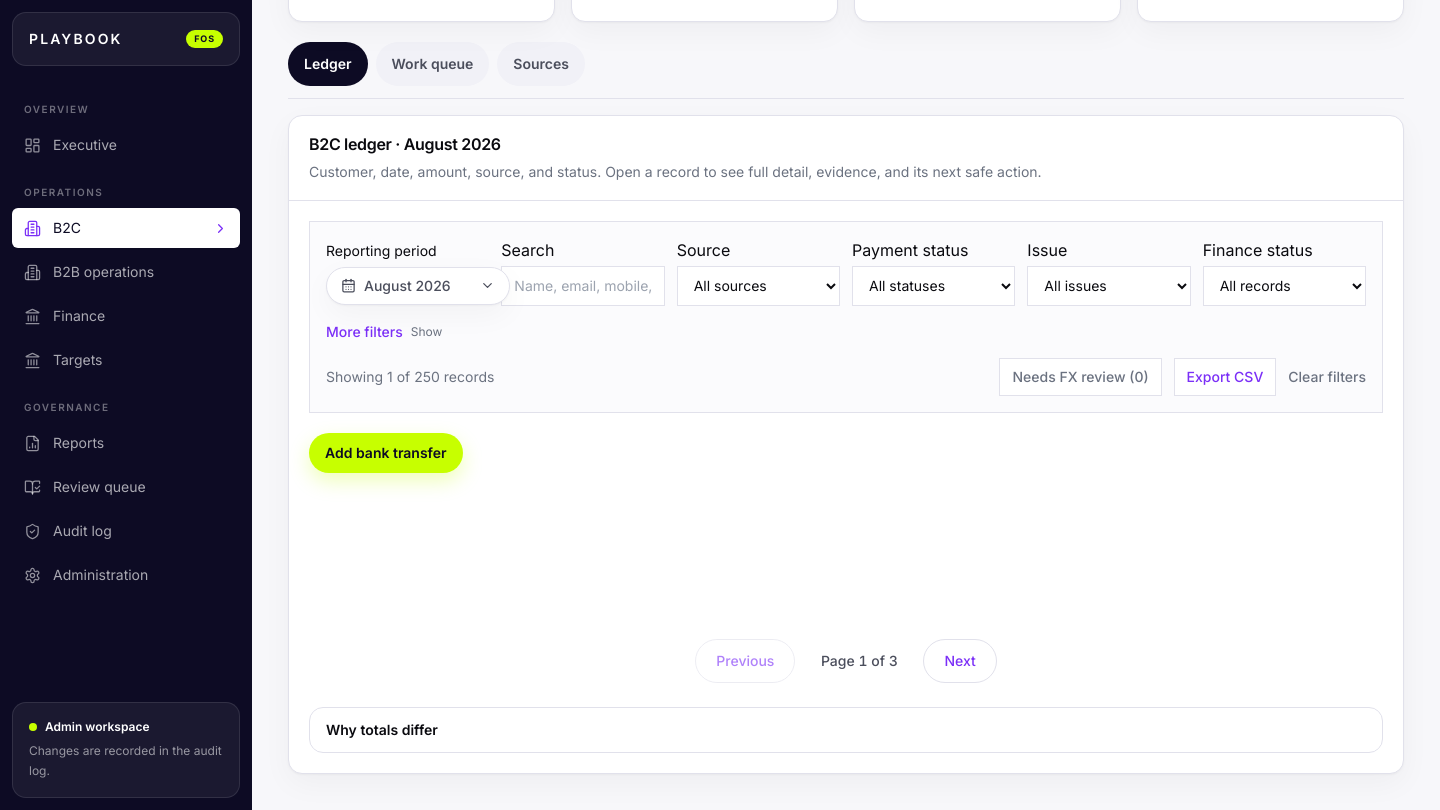
Ledger › replaces rows across label-only Previous and Next keyset pages
The width and height of the screenshot is (1440, 810).
(page scrolled)
Expected: the text "Page 1 of 3" is shown, [821,652,898,669]
Expected: the button "Previous" is disabled, [695,639,795,683]
Click the button "Next" at (960, 661), box [923,639,997,683]
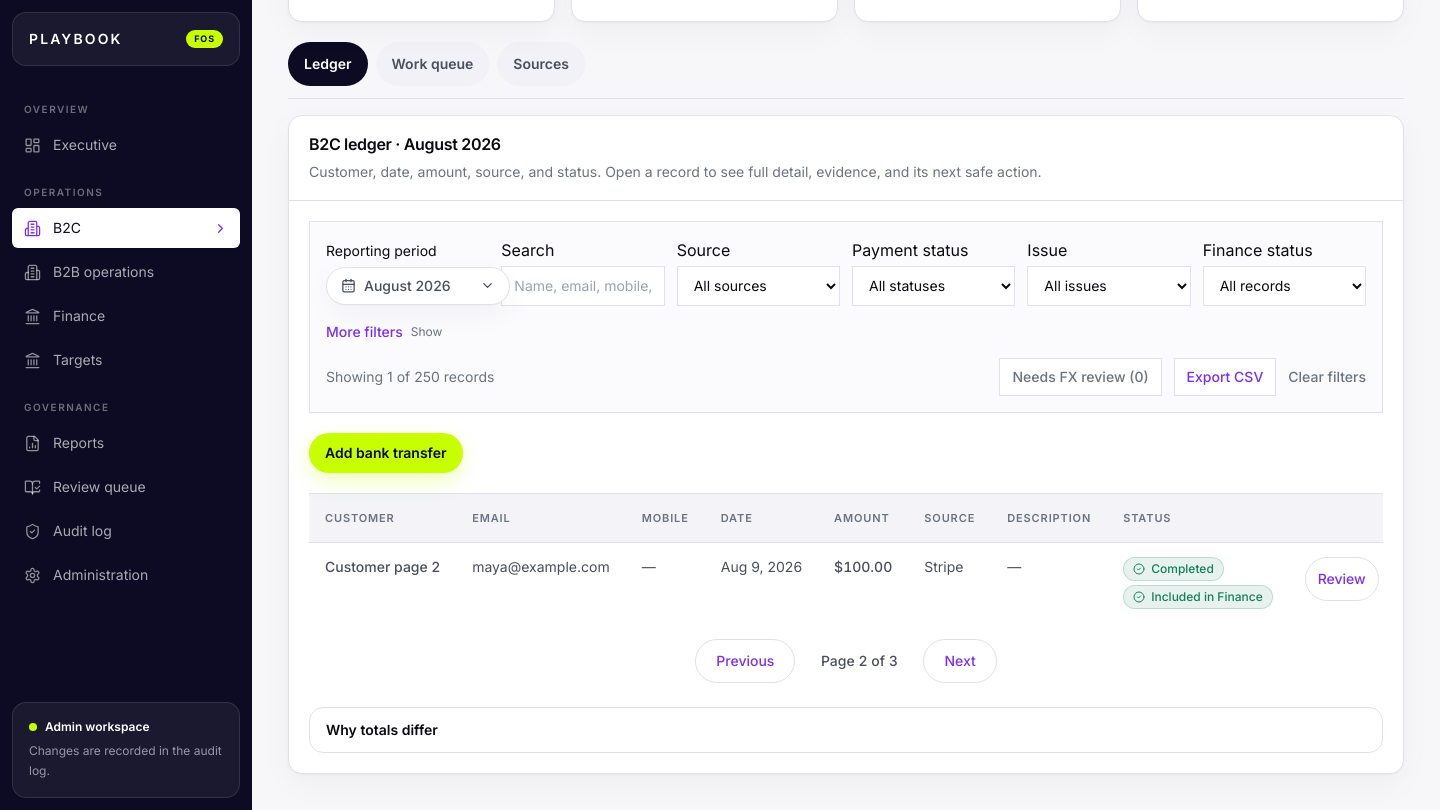
Expected: the text "Page 2 of 3" is shown, [821,652,898,669]
Expected: the text "Customer page 2" is shown, [309,543,456,623]
Click the button "Next" at (960, 661), box [923,639,997,683]
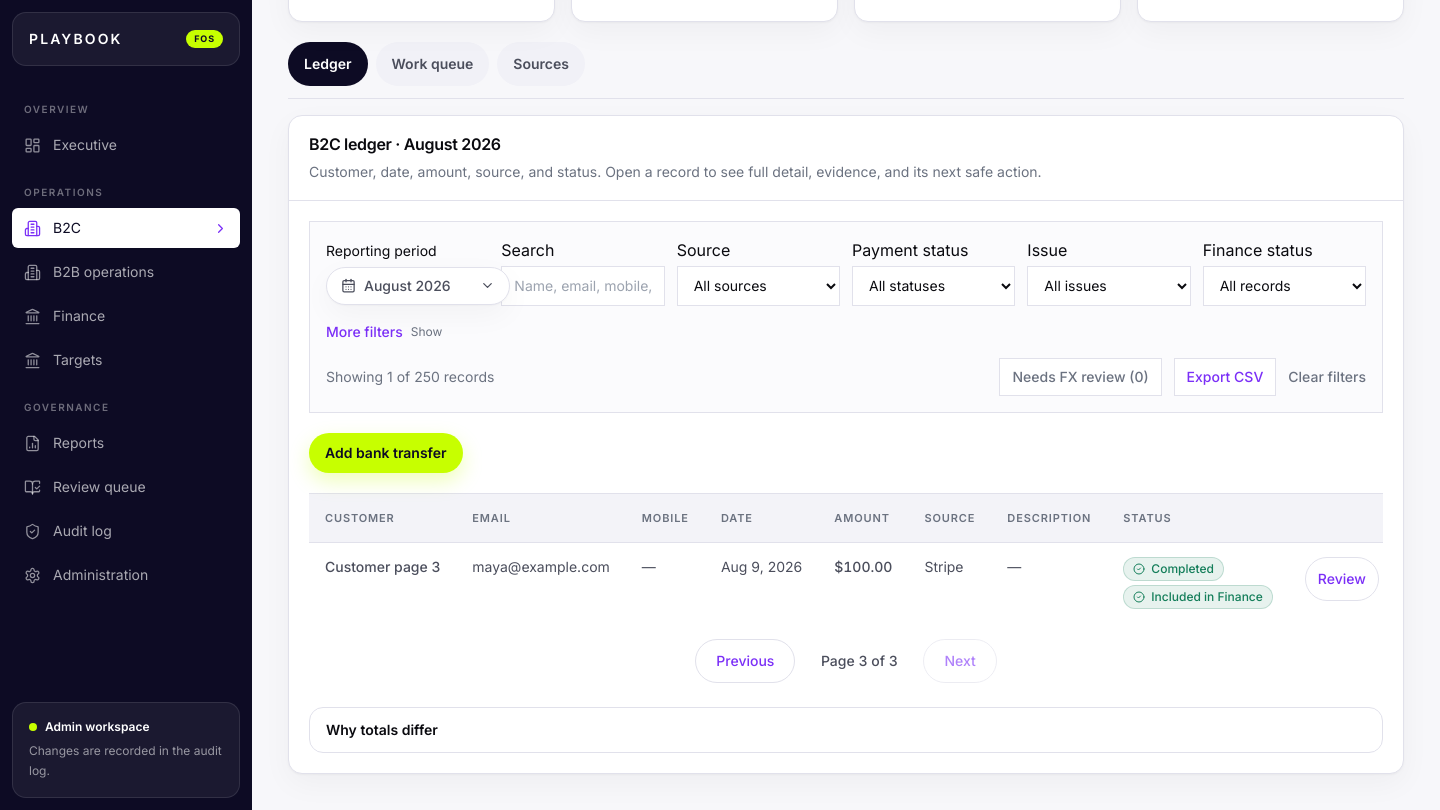
Expected: the text "Page 3 of 3" is shown, [821,652,898,669]
Expected: the button "Next" is disabled, [923,639,997,683]
Click the button "Previous" at (745, 661), box [695,639,795,683]
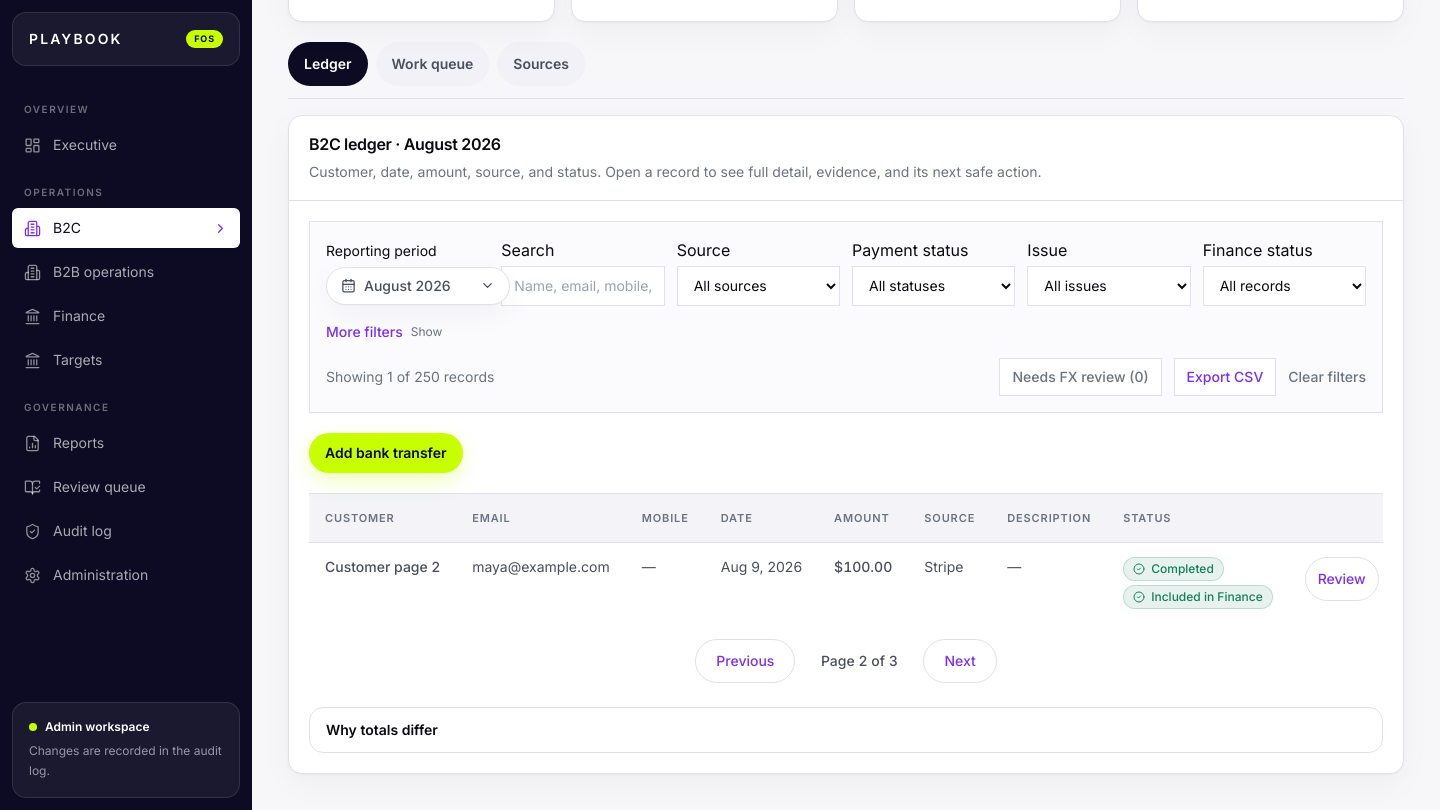
Expected: the text "Page 2 of 3" is shown, [821,652,898,669]
